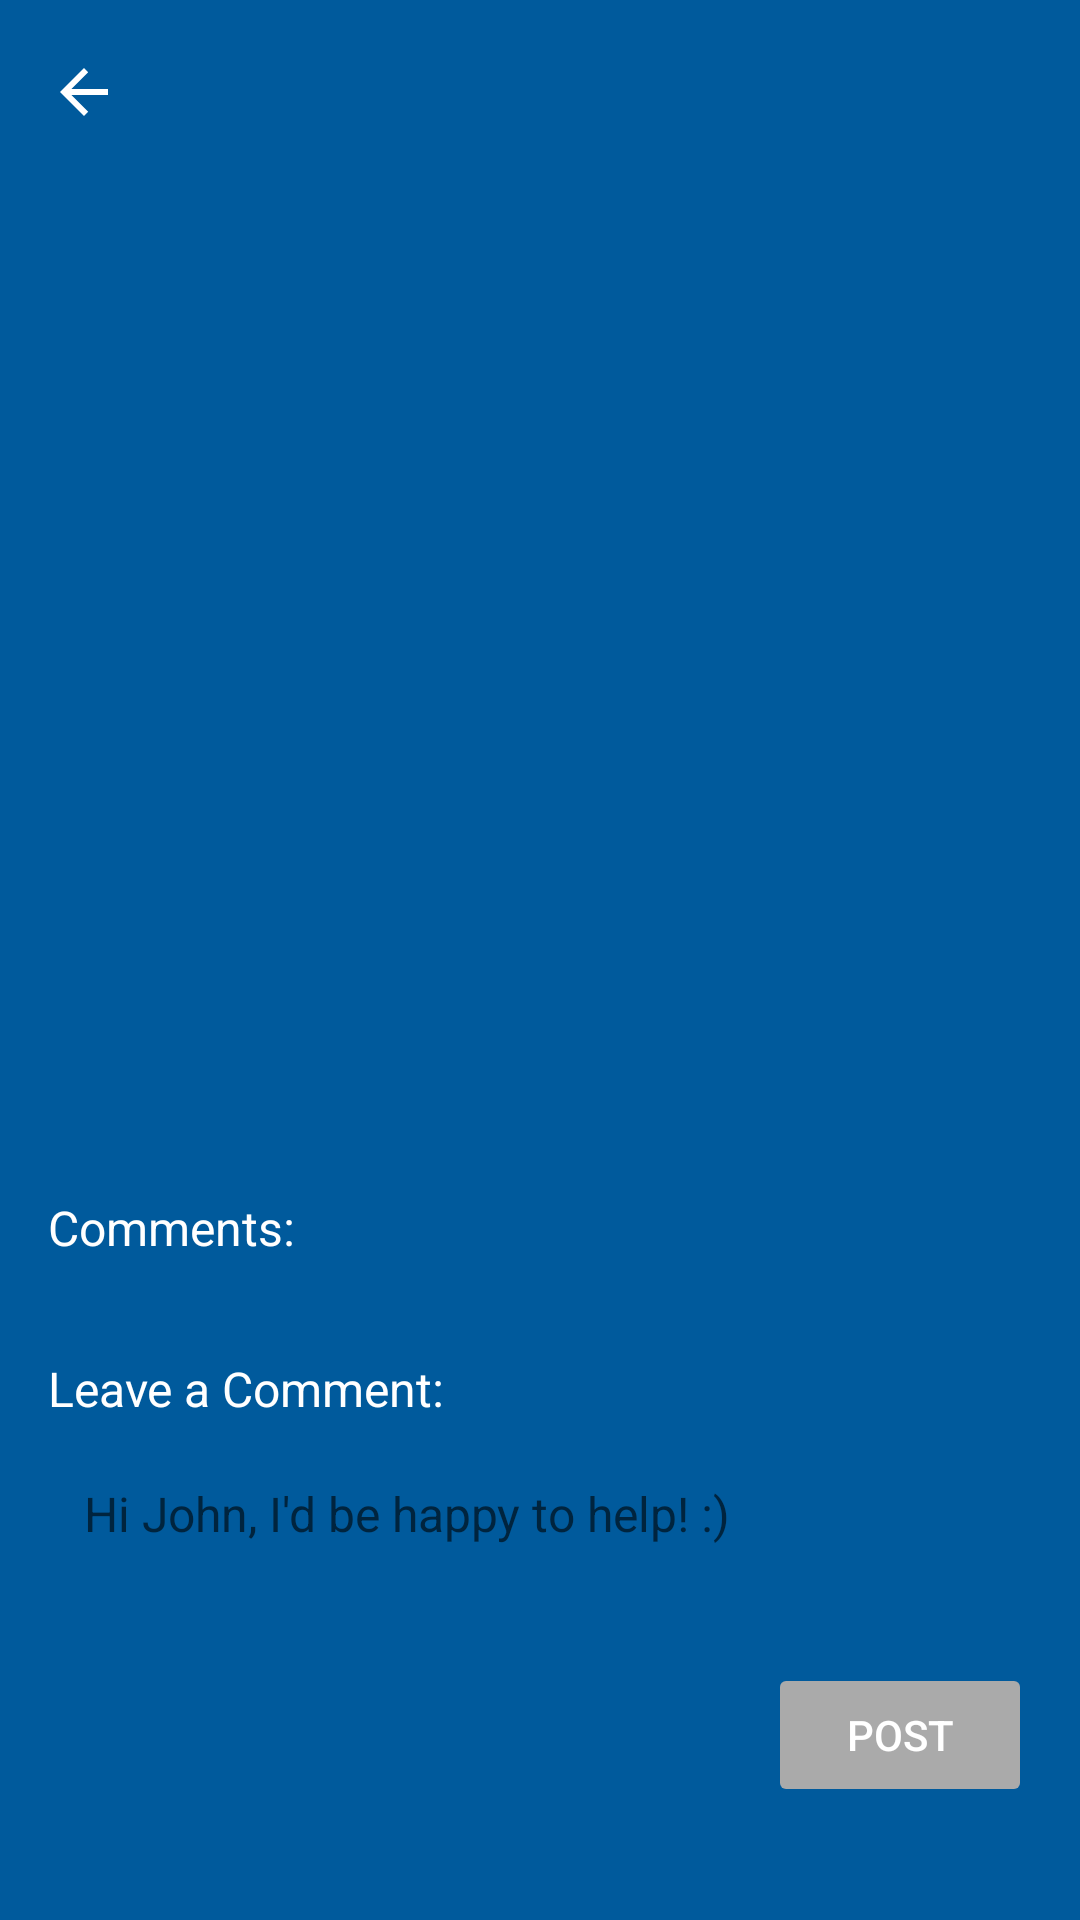

Named icons in this screenshot (1080px x 1920px) and their centers, (x,y):
Back: (84,92)
